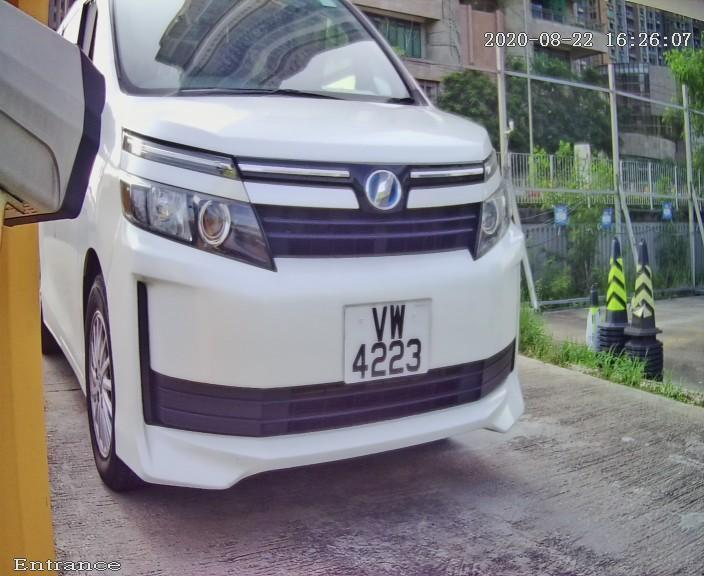Car: (10, 3, 573, 523)
License Plate: (327, 291, 447, 394)
